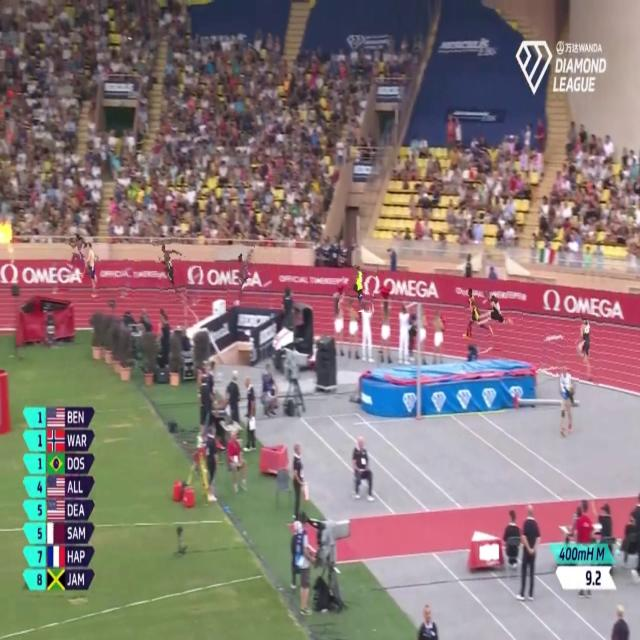athlete: (478, 281, 523, 331), (572, 314, 602, 385), (155, 236, 185, 303), (228, 245, 254, 313), (340, 265, 376, 312), (464, 281, 490, 345), (84, 243, 102, 302), (65, 225, 86, 274)
hurdle: (540, 328, 567, 378), (474, 310, 501, 353), (118, 258, 140, 302), (188, 266, 201, 310)
